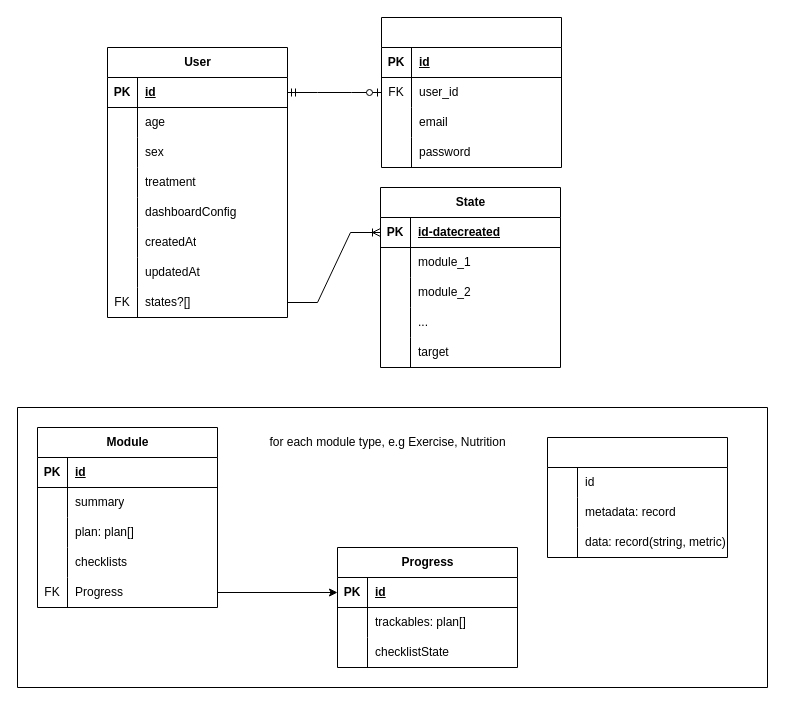
The diagram is 785 pixels wide and 705 high, and some of its shapes have lost their labels. Each missing label, with the box of its shape:
Account: (380, 16, 562, 168)
Plan: (546, 436, 728, 558)
